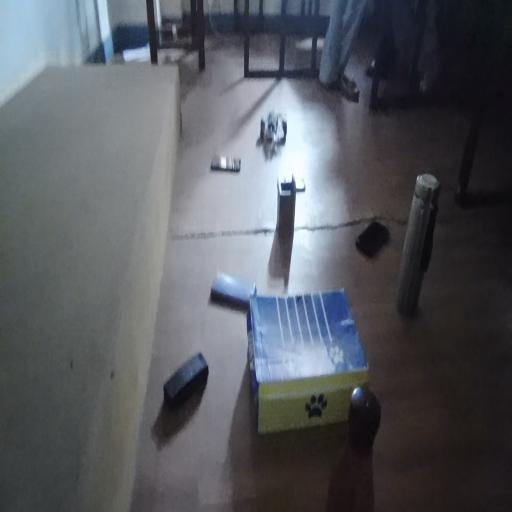car: (260, 104, 294, 153)
